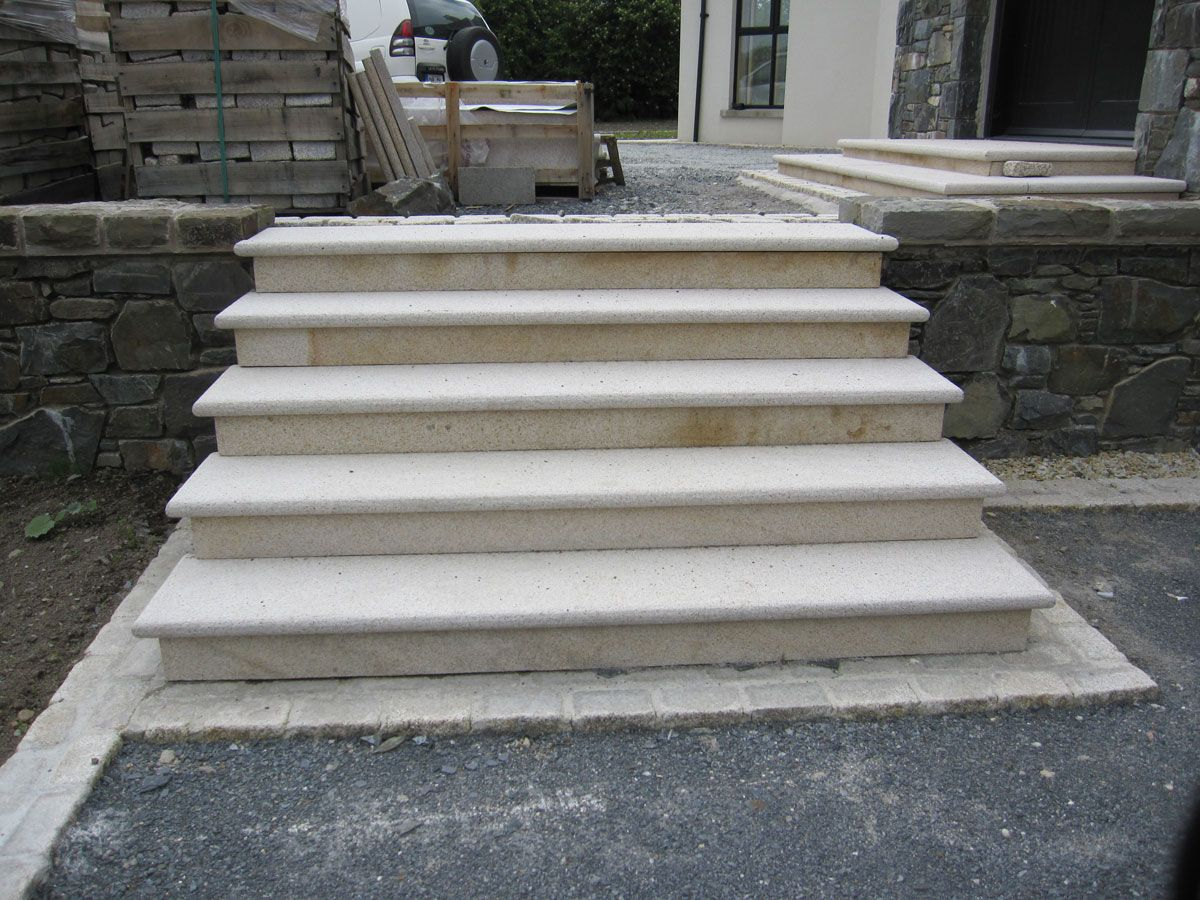upstairs: (278, 227, 865, 747)
